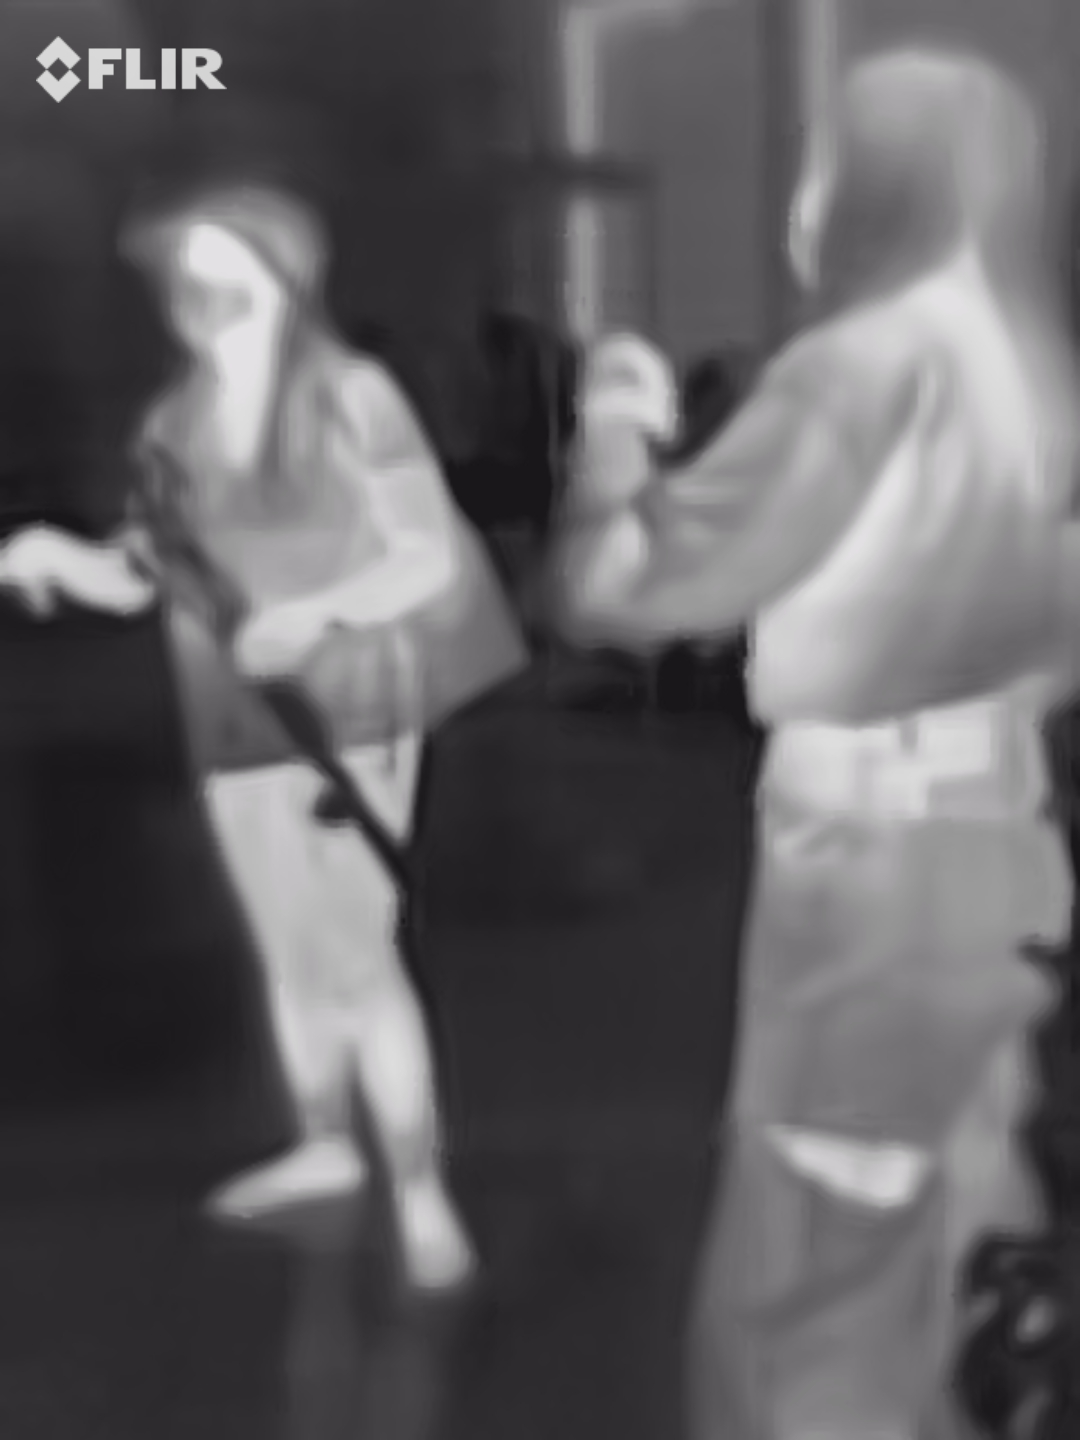head: (166, 183, 330, 356)
